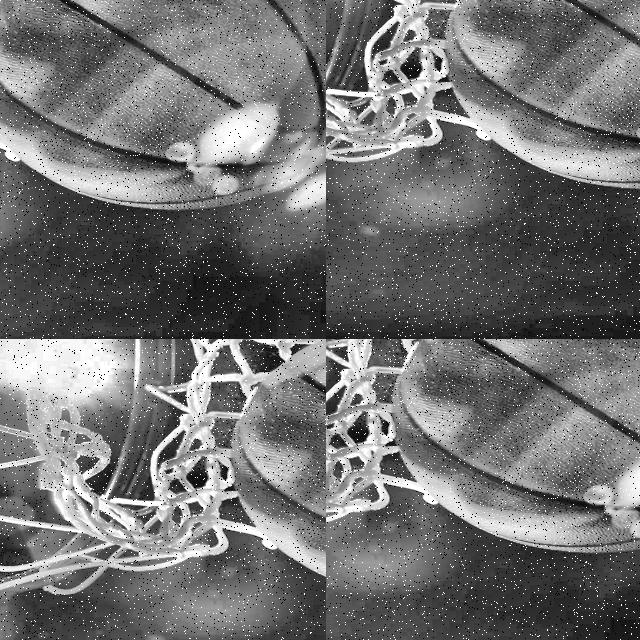Basketball: (393, 339, 640, 552), (506, 193, 526, 225), (537, 192, 556, 222)
